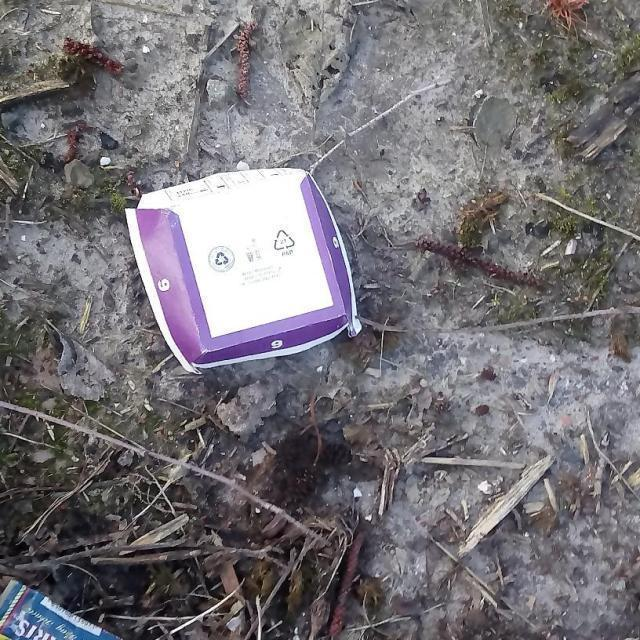Paper: (124, 164, 364, 376)
Plastic: (0, 574, 125, 640)
